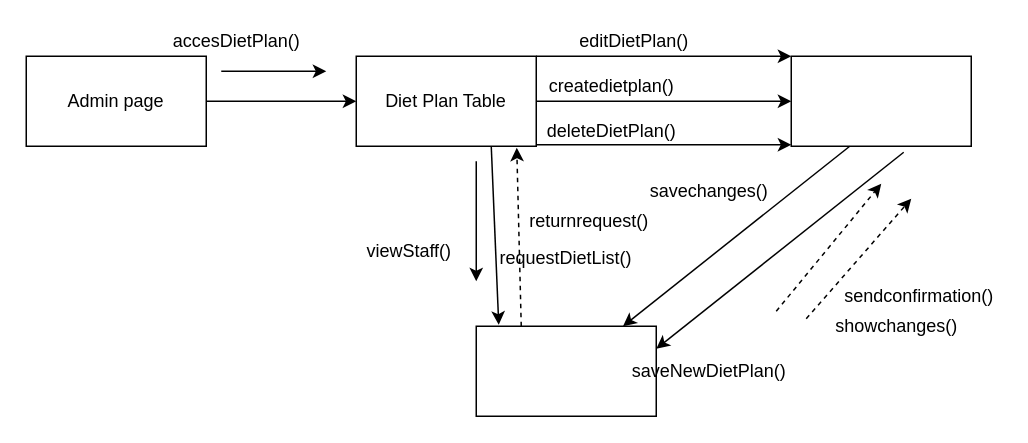
The diagram is 1028 pixels wide and 443 high, and some of its shapes have lost their labels. Here are the shapes that lost their labels. From the top down, the centre of each, then its label:
At point (880, 100): "Diet Plan".
At point (565, 370): "Server".
